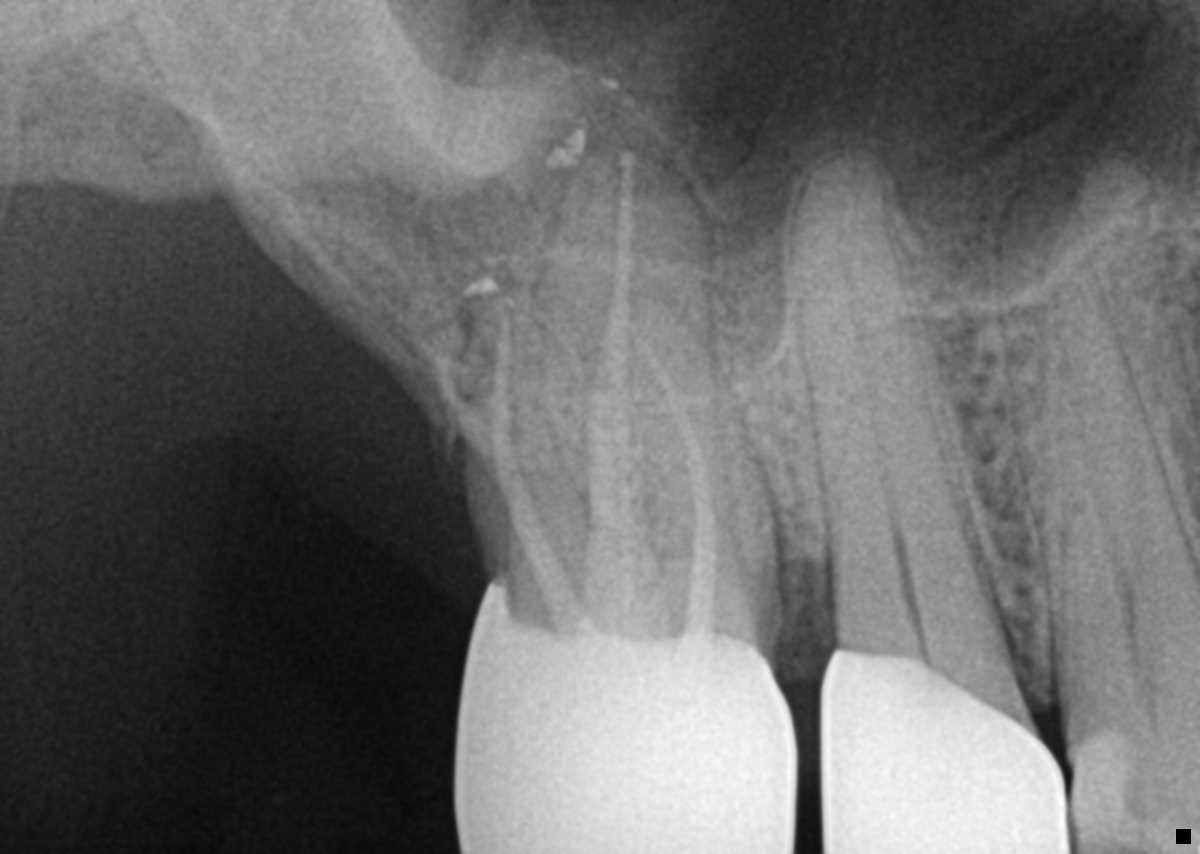Apical Lesion: (510, 70, 675, 176)
Distal Root: (453, 288, 623, 571)
Main Canal: (841, 201, 931, 651)
Main Root: (784, 135, 1009, 658), (989, 178, 1200, 678), (1050, 158, 1200, 730)
Mesial Root: (615, 296, 794, 624)
Palatal Root: (495, 144, 738, 650)
Root Canal Filling: (584, 152, 671, 633), (489, 318, 595, 633), (632, 330, 716, 631)
